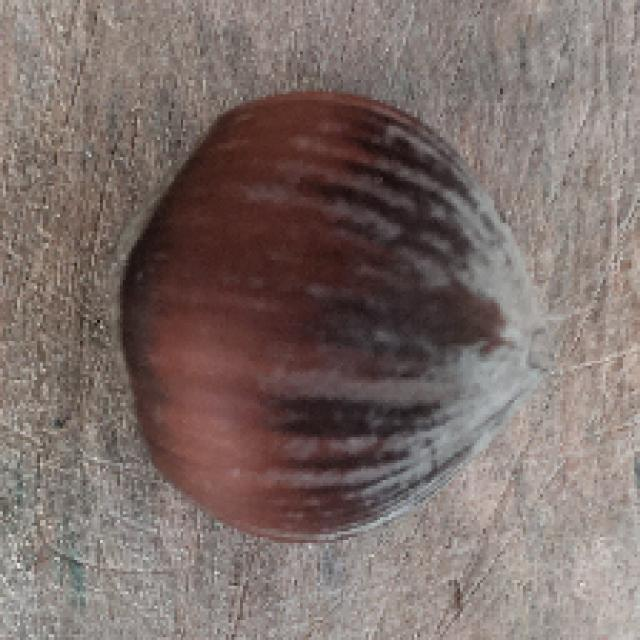damagedHazelnut: (112, 90, 563, 539)
